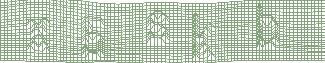5: (78, 14, 108, 61)
b: (252, 2, 283, 51)
k: (190, 11, 218, 61)
s: (143, 10, 172, 47)
x: (24, 17, 52, 55)
